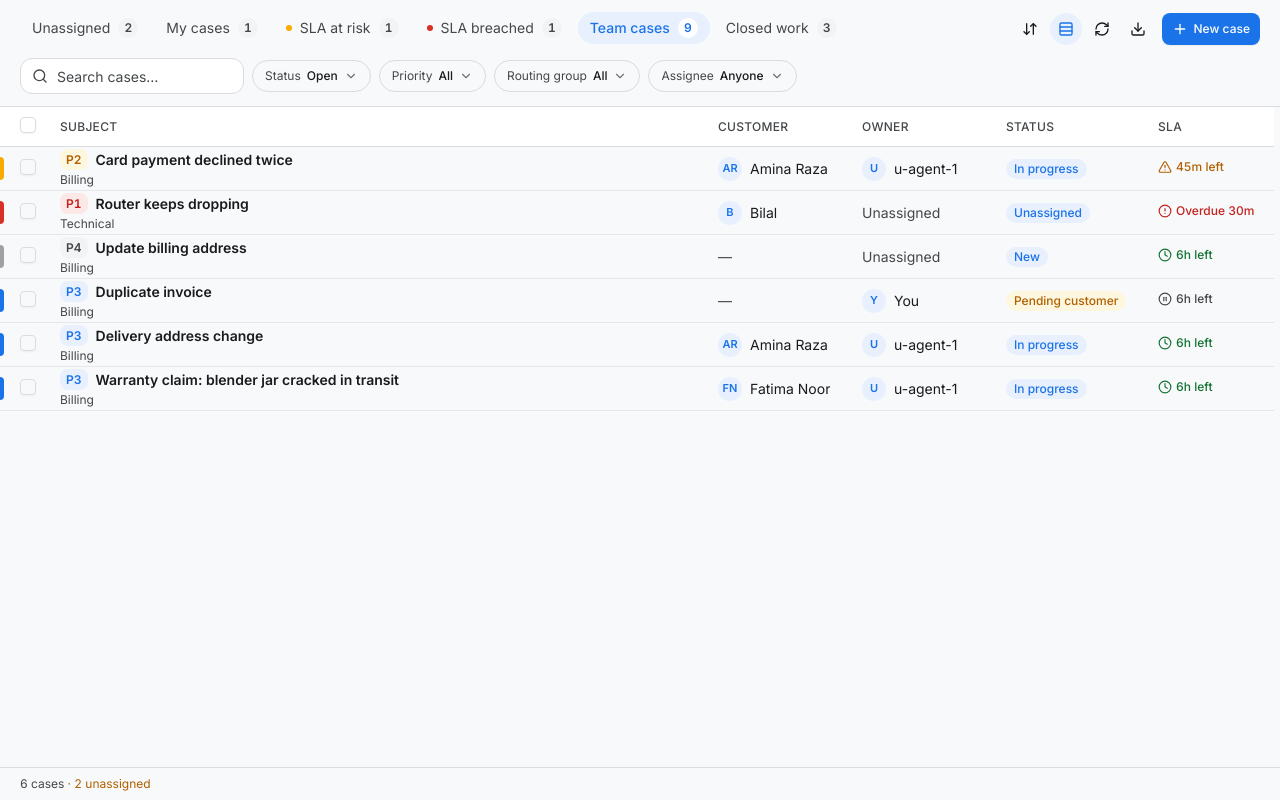
Test: case Workbench › bulk-resolves selected cases and reports failures per case
The image size is (1280, 800).
Check: the text "Card payment declined twice" is shown, box [96, 150, 293, 170]
Click the checkbox named "Select CASE-20261019-00001": click(28, 167) [20, 159, 36, 175]
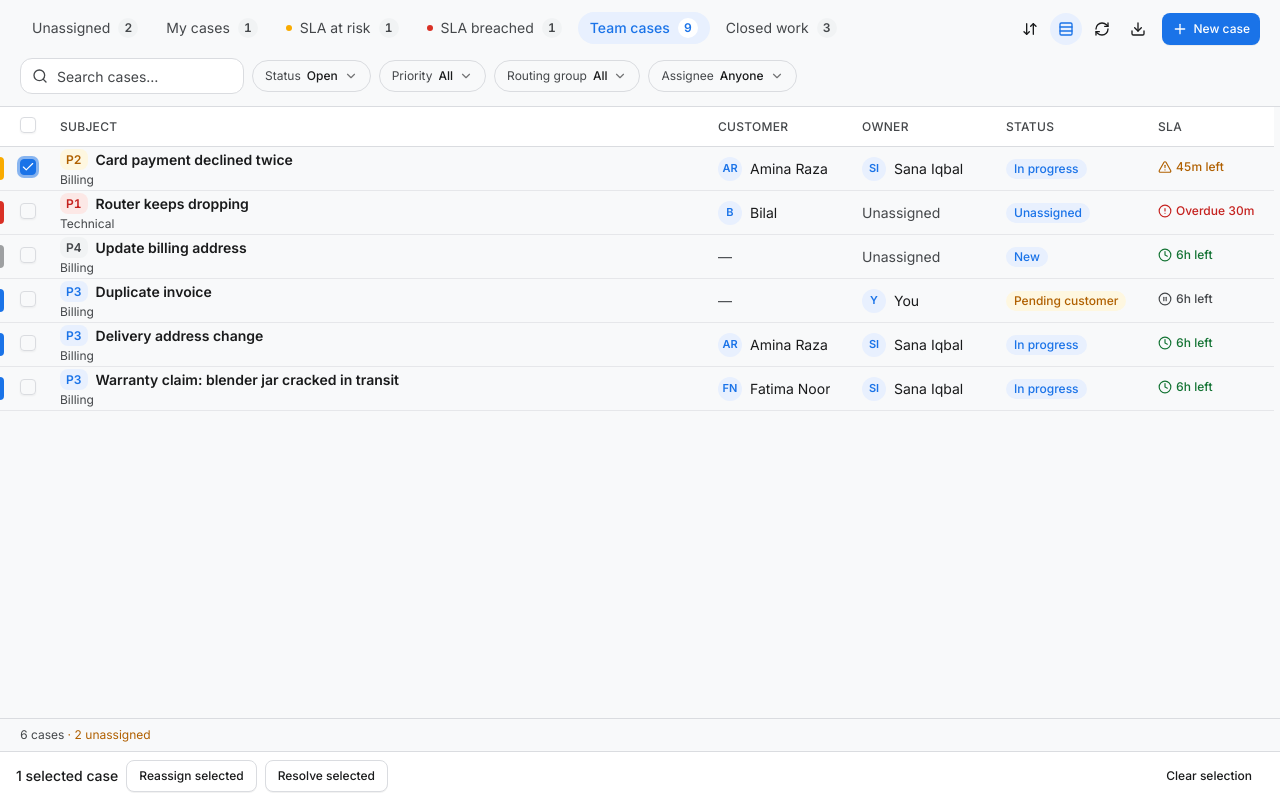
Click the checkbox named "Select CASE-20261019-00005": click(28, 299) [20, 291, 36, 307]
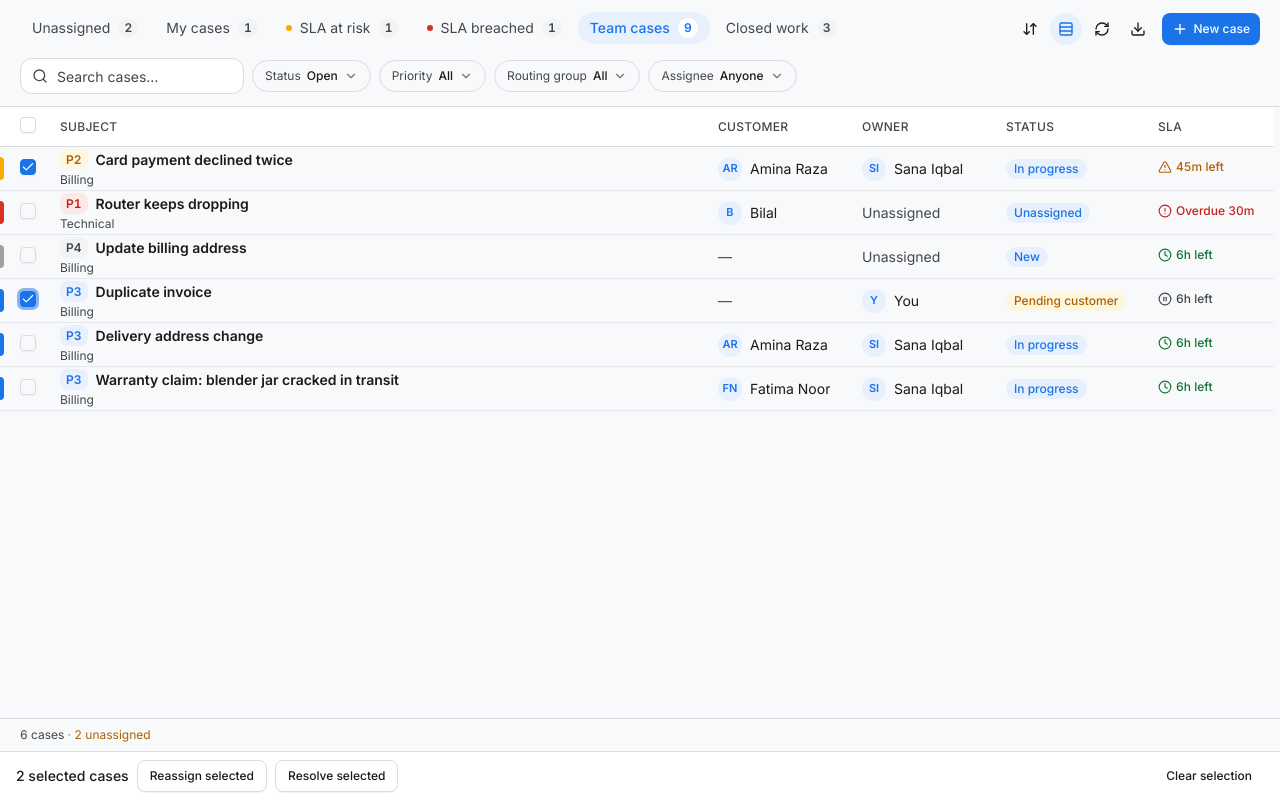
Click the button "Resolve selected": click(337, 776) [275, 760, 398, 792]
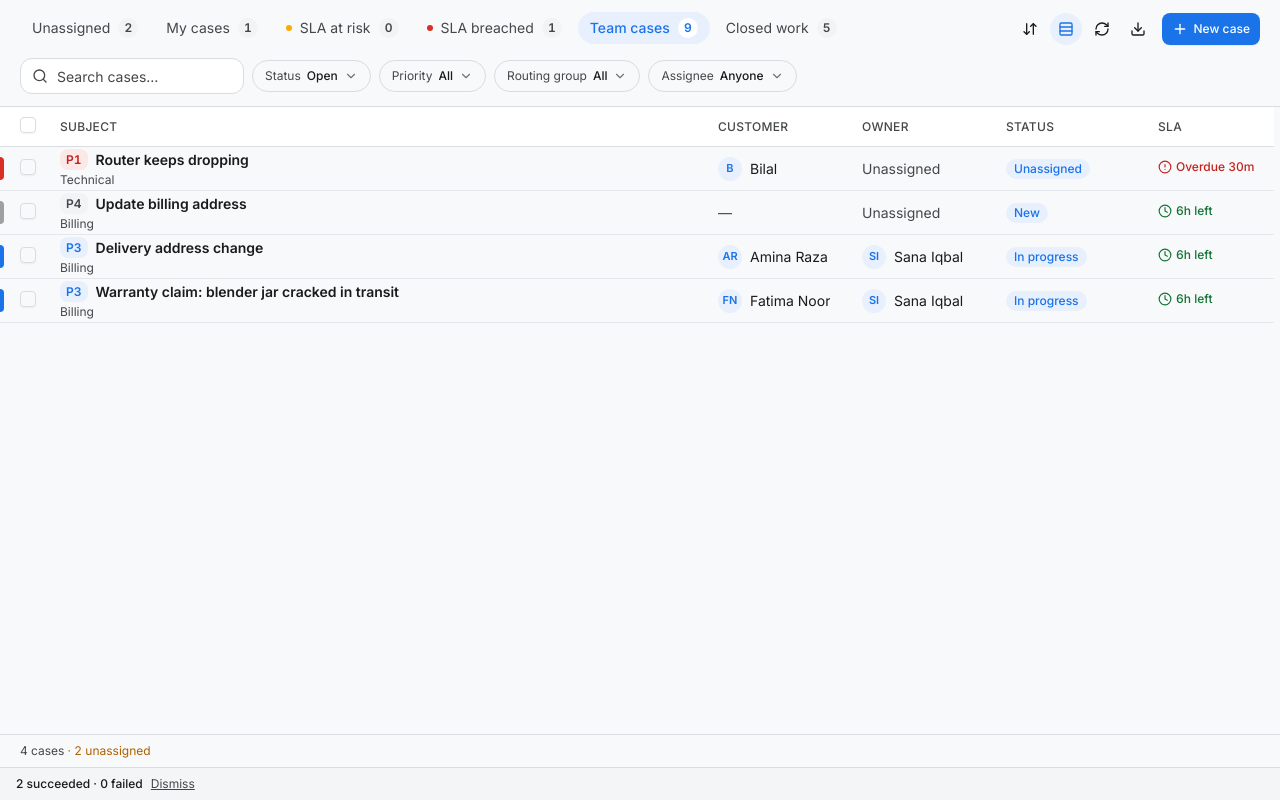
Check: the text "2 succeeded · 0 failed" is shown, box [16, 776, 143, 791]
